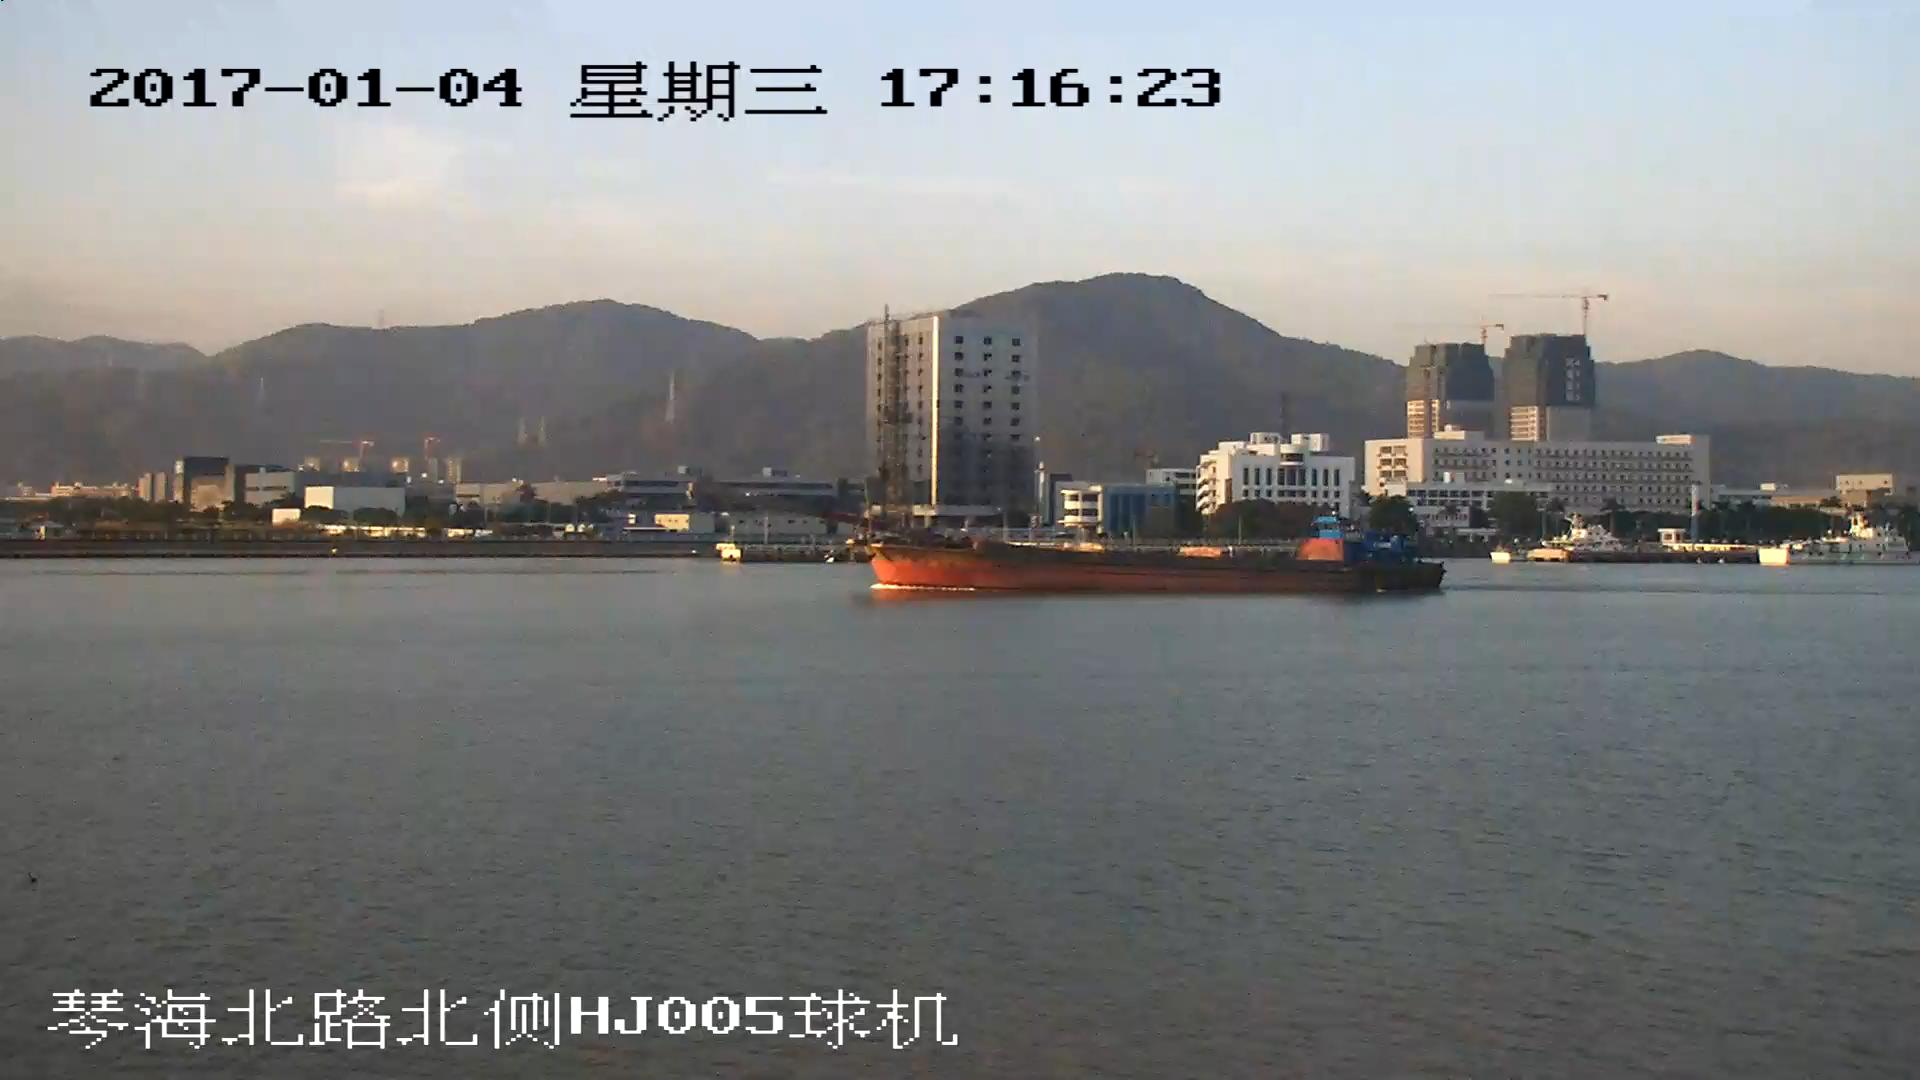bulk cargo carrier: (812, 502, 1441, 593)
